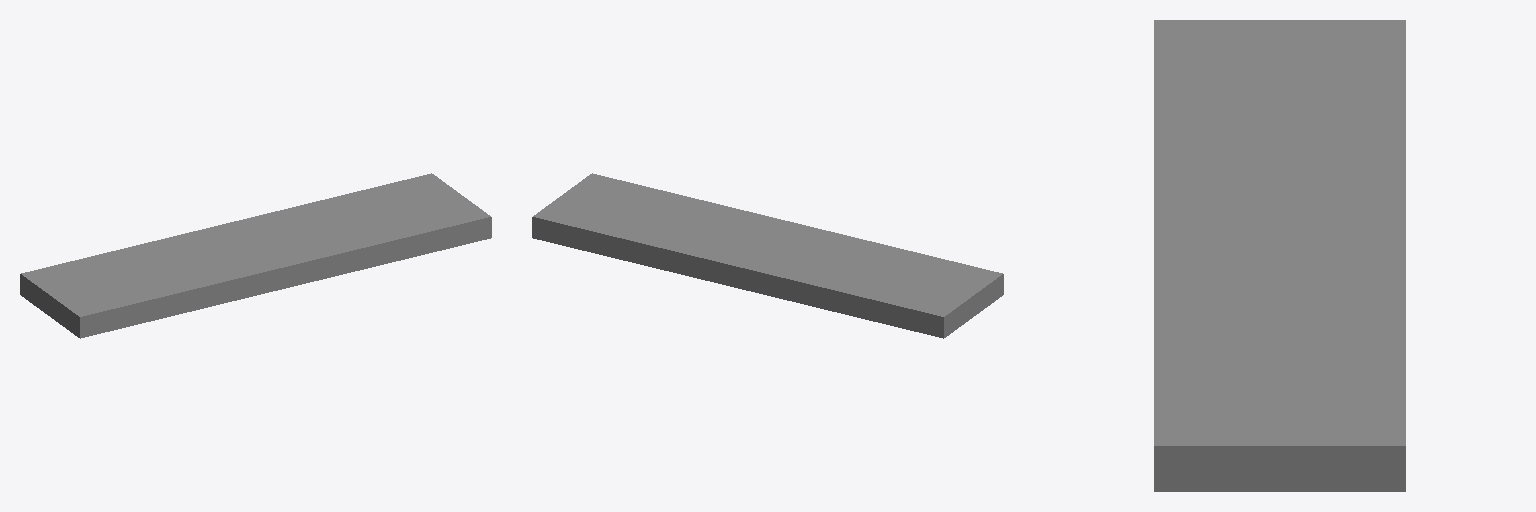
URDF robot description (flat_plate):
<?xml version="1.0"?>
<robot name="flat_plate">
  <!-- Dimensions are in metres: 40 mm x 10 mm x 2 mm. -->
  <link name="plate">
    <visual>
      <geometry>
        <box size="0.040 0.010 0.002"/>
      </geometry>
      <material name="plate_gray">
        <color rgba="0.6 0.6 0.6 1.0"/>
      </material>
    </visual>

    <collision>
      <geometry>
        <box size="0.040 0.010 0.002"/>
      </geometry>
    </collision>
  </link>
</robot>

--- Facts derived from the render (not from the file) ---
The picture shows the robot from 3 angles, left to right: view 1: azimuth 30°, elevation 25°; view 2: azimuth 150°, elevation 25°; view 3: azimuth 270°, elevation 25°; orthographic projection.
Robot: flat_plate — 1 links, 0 joints (none); root link plate; default pose: all joints at 0.
Links seen in each view (by area): view 1: plate; view 2: plate; view 3: plate.
Link boxes in pixels (x1=…): plate: x1=20, y1=173, x2=491, y2=338; plate: x1=532, y1=173, x2=1003, y2=338; plate: x1=1154, y1=20, x2=1405, y2=491.
Size in the robot's own frame: 0.04 by 0.01 by 0.002 metres.
Geometry: primitives only (box / cylinder / sphere), no mesh files.
